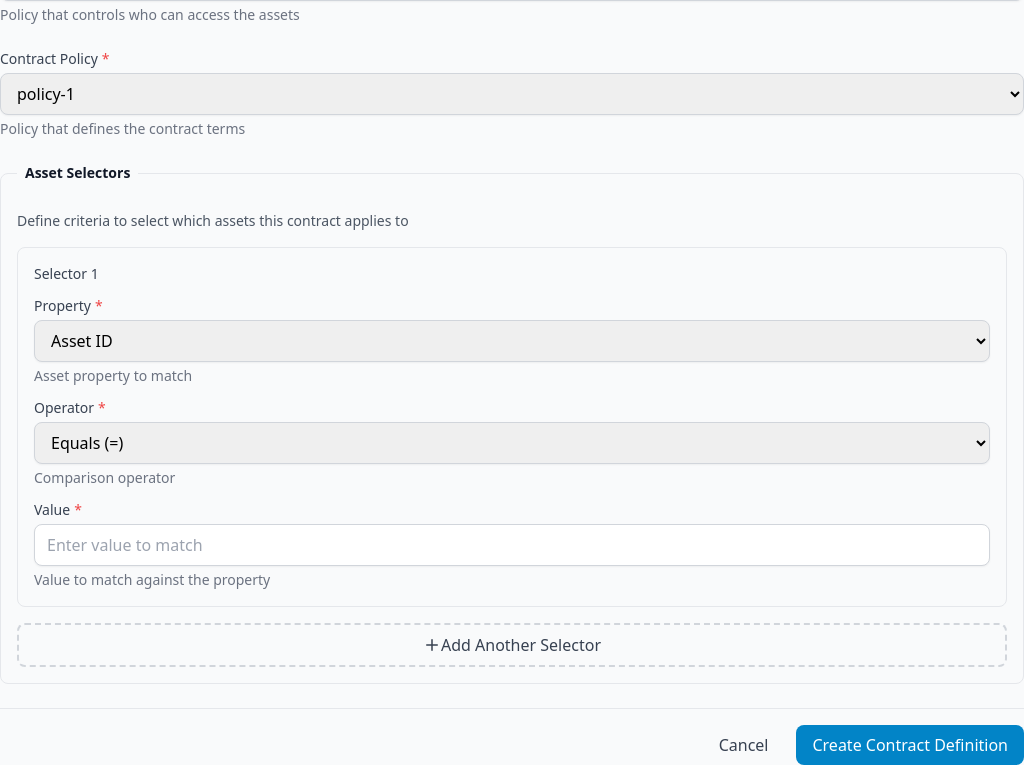
Scenario: ContractForm › asset selectors › adds multiple selectors
The width and height of the screenshot is (1024, 765).
(page scrolled)
Click the button "Add Another Selector": [512, 645] box 17,623 -> 1007,667
(page scrolled)
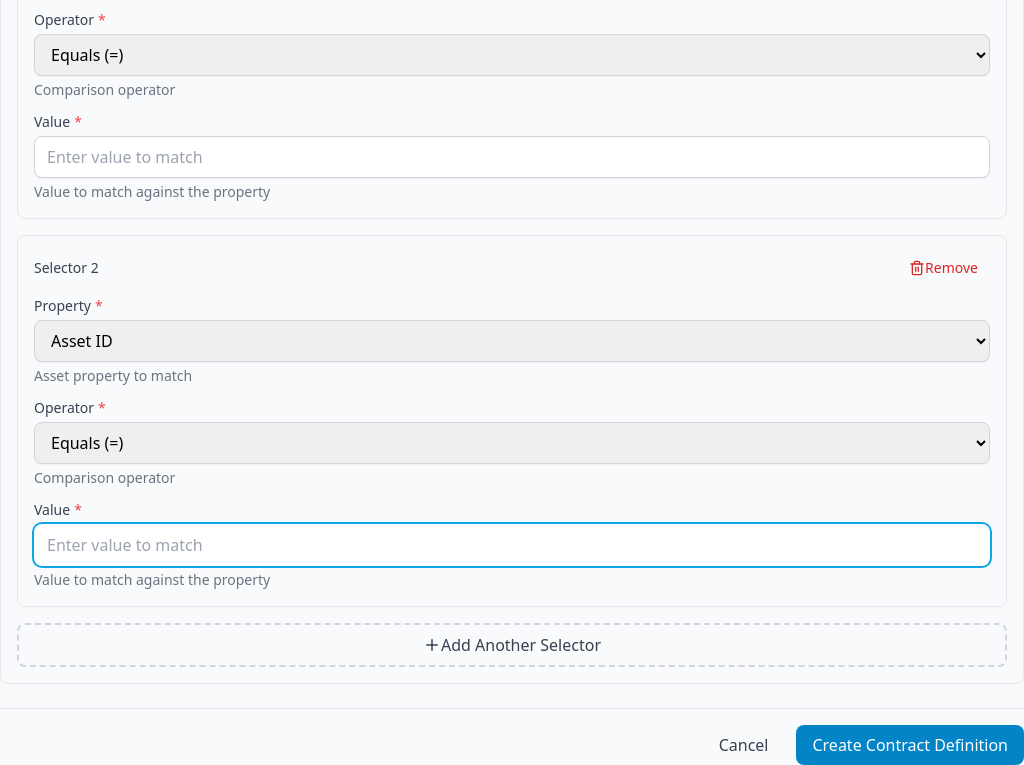
Expected: the heading "Selector 2" is shown, 34,258 -> 99,278
Click the button "Add Another Selector": [512, 645] box 17,623 -> 1007,667
(page scrolled)
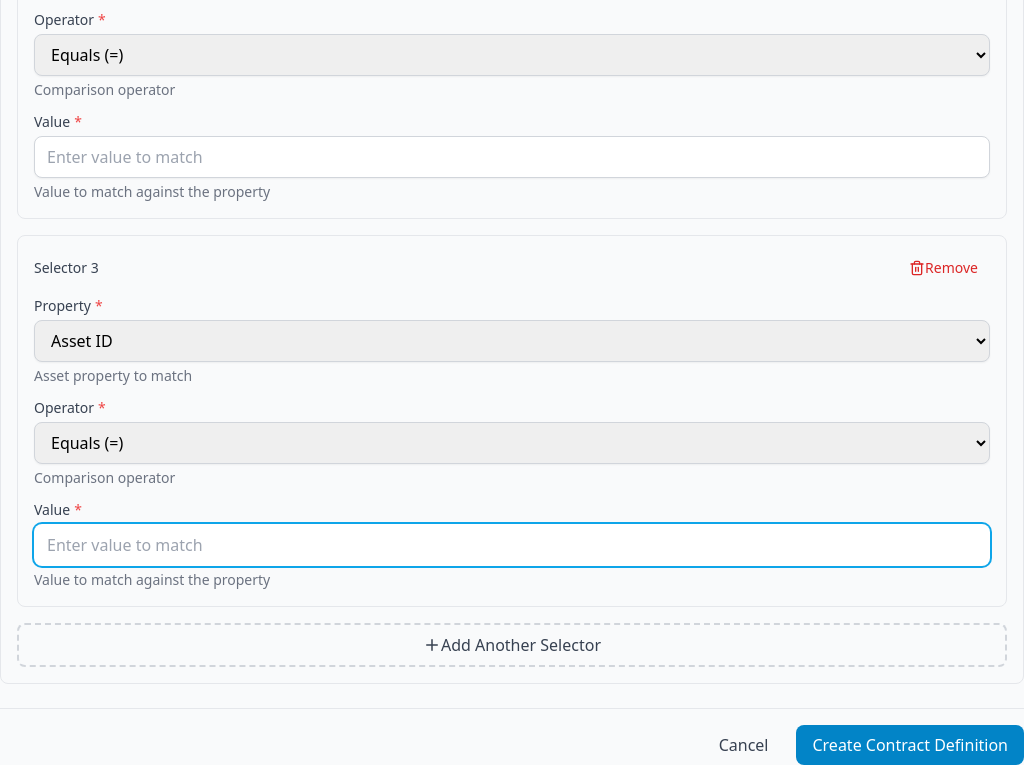
Expected: the heading "Selector 3" is shown, 34,258 -> 99,278
